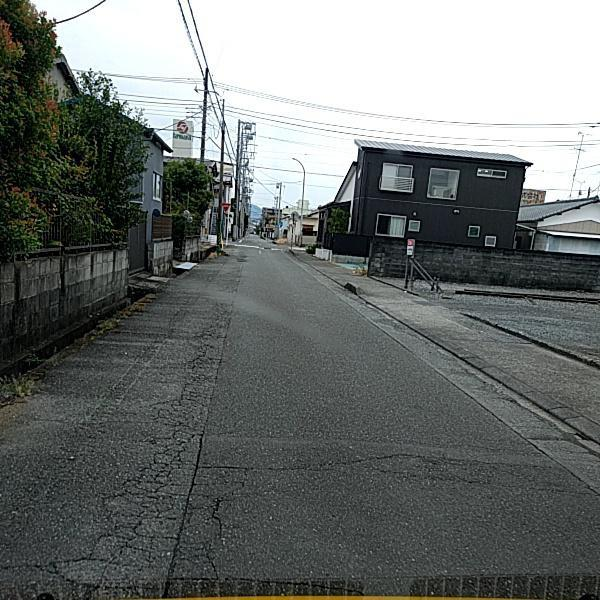D10: (257, 447, 449, 485)
D20: (17, 373, 230, 596)
